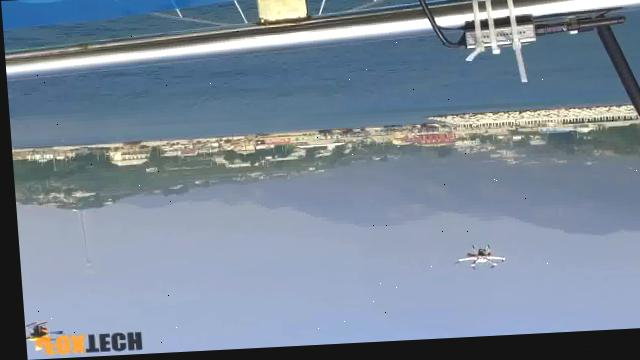drone: (449, 244, 505, 275)
